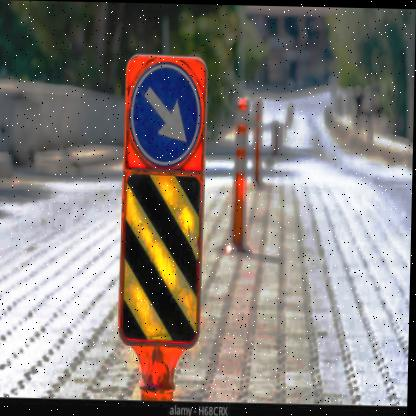Keep right: (124, 54, 207, 175)
